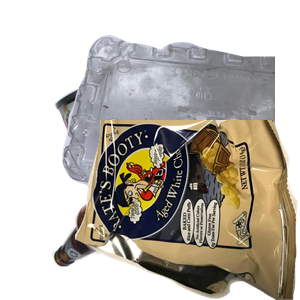glass: (49, 145, 229, 300)
metal: (52, 57, 260, 237)
plastic: (60, 32, 300, 212)
trash: (75, 120, 300, 300)
